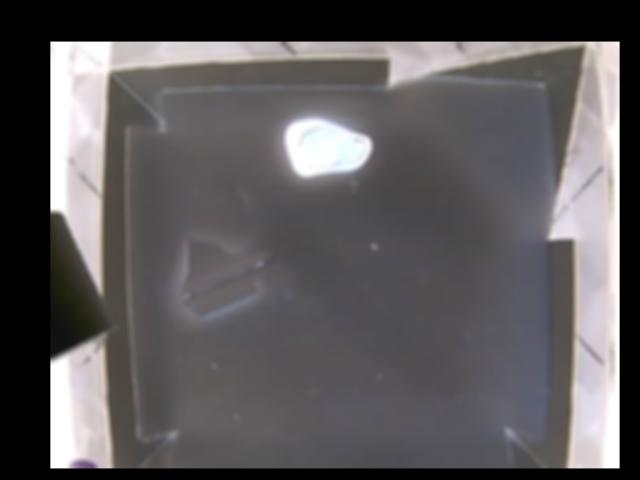China: (178, 236, 278, 313)
Pebble: (282, 118, 372, 177)
